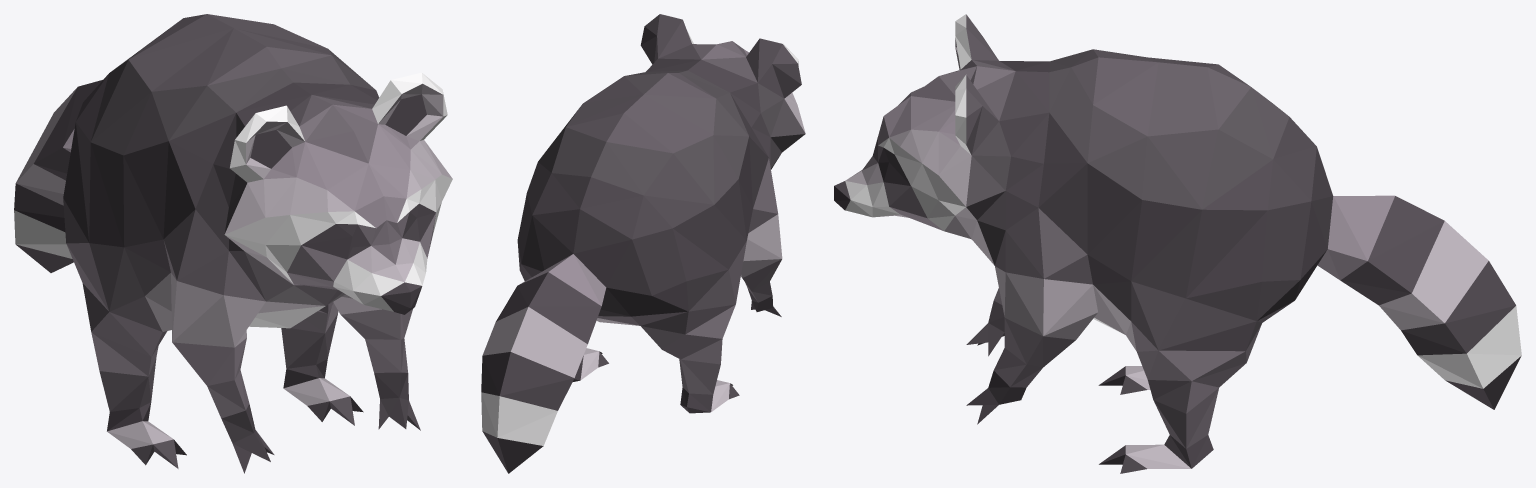
The picture shows the model from 3 angles, left to right: view 1: azimuth 30°, elevation 25°; view 2: azimuth 150°, elevation 25°; view 3: azimuth 270°, elevation 25°; orthographic projection. The views are drawn at different scales.
Size of the model in its own units: 50 by 75 by 125.
Materials: 1 (1 with a texture image).
